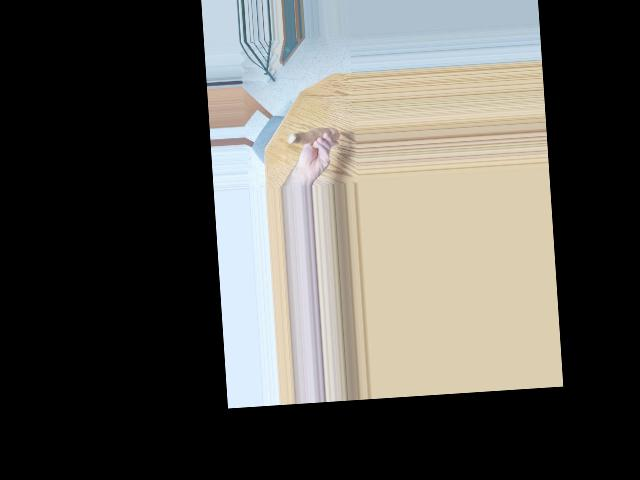sweet_potato: (286, 126, 338, 149)
